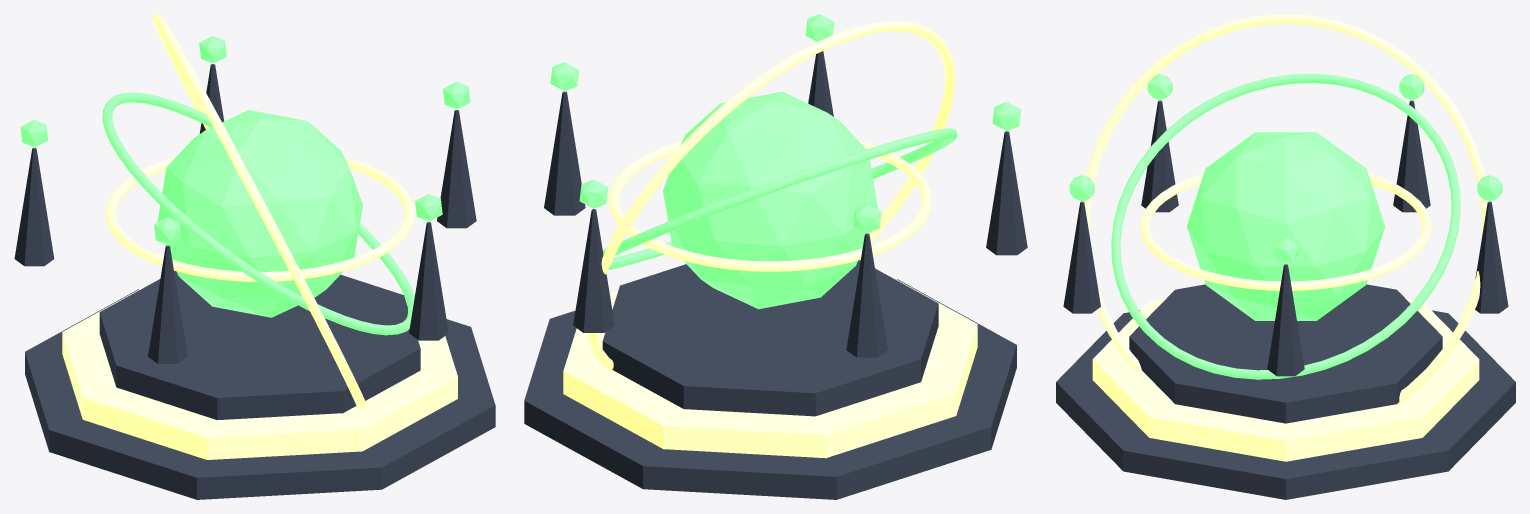
Rendered from gpu-blender-v57.glb.
3 renders of one model, left to right at view 1: azimuth 30°, elevation 25°; view 2: azimuth 150°, elevation 25°; view 3: azimuth 270°, elevation 25°, orthographic. The views are drawn at different scales.
Parts seen in each view (by area): view 1: Cylinder.002, SovereignCore_vision-gesture-control, Cylinder, Cylinder.001, Torus.001, Torus.002, Torus, Cone.002, Cone.004, Cone.003, Cone, Icosphere.001 (+5 smaller); view 2: Cylinder.002, SovereignCore_vision-gesture-control, Cylinder, Cylinder.001, Torus.002, Torus, Torus.001, Cone.003, Cone.002, Cone, Cone.001, Cone.004 (+5 smaller); view 3: SovereignCore_vision-gesture-control, Cylinder.002, Cylinder, Cylinder.001, Torus.001, Torus.002, Torus, Cone, Cone.004, Cone.001, Cone.002, Cone.003 (+5 smaller).
Boxes of the visible parts, left/top/right/bottom form: Cylinder.002: left=99, top=271, right=420, bottom=420; SovereignCore_vision-gesture-control: left=157, top=110, right=362, bottom=317; Cylinder: left=25, top=289, right=495, bottom=499; Cylinder.001: left=62, top=279, right=457, bottom=459; Torus.001: left=102, top=92, right=414, bottom=335; Torus.002: left=152, top=14, right=366, bottom=407; Torus: left=105, top=156, right=414, bottom=281; Cone.002: left=14, top=148, right=54, bottom=266; Cone.004: left=409, top=222, right=448, bottom=340; Cone.003: left=148, top=245, right=187, bottom=363; Cone: left=437, top=110, right=476, bottom=228; Icosphere.001: left=199, top=36, right=226, bottom=63; Cylinder.002: left=602, top=260, right=938, bottom=416; SovereignCore_vision-gesture-control: left=663, top=91, right=877, bottom=309; Cylinder: left=524, top=279, right=1016, bottom=499; Cylinder.001: left=563, top=269, right=977, bottom=458; Torus.002: left=587, top=20, right=954, bottom=370; Torus: left=609, top=140, right=932, bottom=271; Torus.001: left=603, top=128, right=957, bottom=269; Cone.003: left=986, top=131, right=1027, bottom=255; Cone.002: left=846, top=233, right=887, bottom=357; Cone: left=544, top=91, right=585, bottom=215; Cone.001: left=573, top=209, right=614, bottom=332; Cone.004: left=808, top=51, right=833, bottom=116; SovereignCore_vision-gesture-control: left=1186, top=132, right=1385, bottom=320; Cylinder.002: left=1129, top=284, right=1442, bottom=423; Cylinder: left=1056, top=310, right=1515, bottom=499; Cylinder.001: left=1092, top=298, right=1479, bottom=461; Torus.001: left=1111, top=73, right=1460, bottom=379; Torus.002: left=1083, top=14, right=1488, bottom=403; Torus: left=1140, top=173, right=1431, bottom=290; Cone: left=1267, top=264, right=1304, bottom=376; Cone.004: left=1063, top=201, right=1100, bottom=313; Cone.001: left=1475, top=201, right=1508, bottom=313; Cone.002: left=1393, top=100, right=1430, bottom=212; Cone.003: left=1141, top=100, right=1178, bottom=212.
Size of the model in its own units: 4.41 by 3.72 by 4.4.
